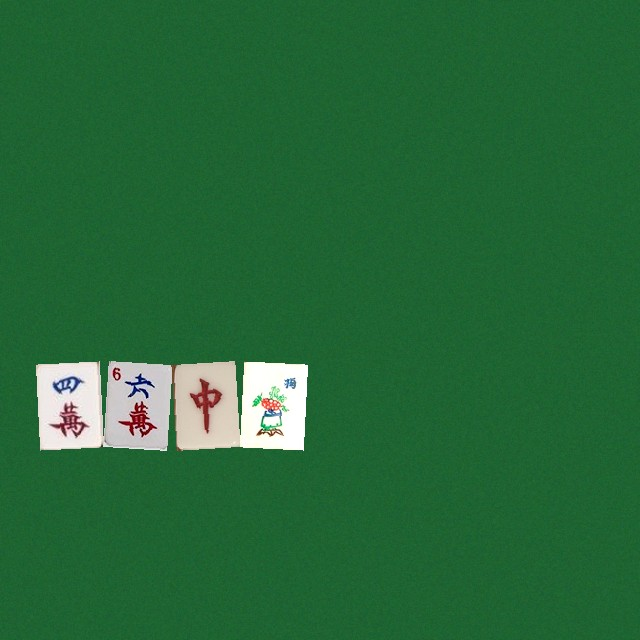tile: (35, 361, 99, 447), (103, 361, 167, 447), (171, 361, 235, 447), (239, 361, 303, 447)
